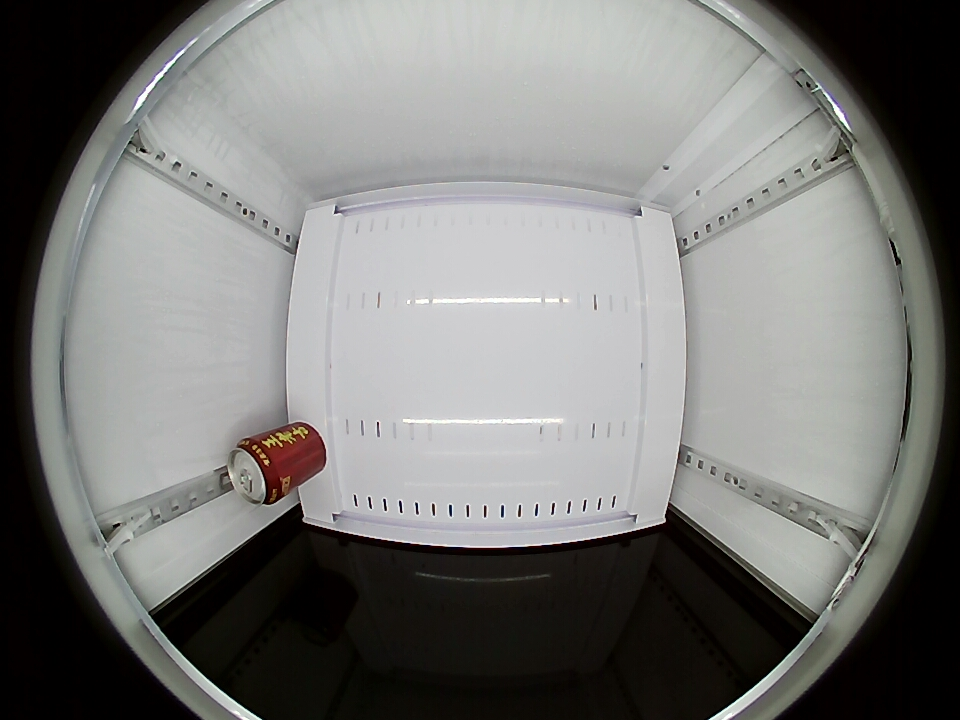wanglaoji-c: (226, 436, 288, 506)
